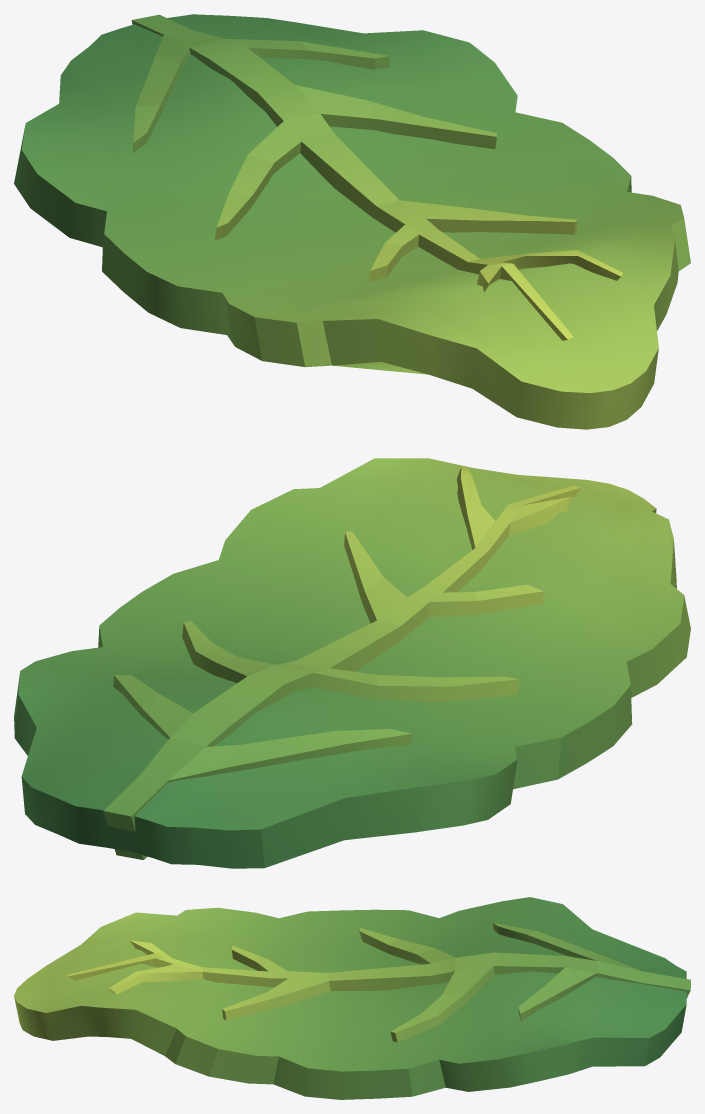
File: lettuce_slice.fbx
3 renders of one model, top to bottom at view 1: azimuth 30°, elevation 25°; view 2: azimuth 150°, elevation 25°; view 3: azimuth 270°, elevation 25°, orthographic. The views are drawn at different scales.
Visible parts, largest first — view 1: lettuce_slice; view 2: lettuce_slice; view 3: lettuce_slice.
Part boxes in pixels (x1=…): lettuce_slice: x1=14, y1=14, x2=690, y2=429; lettuce_slice: x1=14, y1=458, x2=690, y2=868; lettuce_slice: x1=14, y1=897, x2=690, y2=1099.
Bounding box in the file's own units: 16.75 × 3.55 × 29.73.
